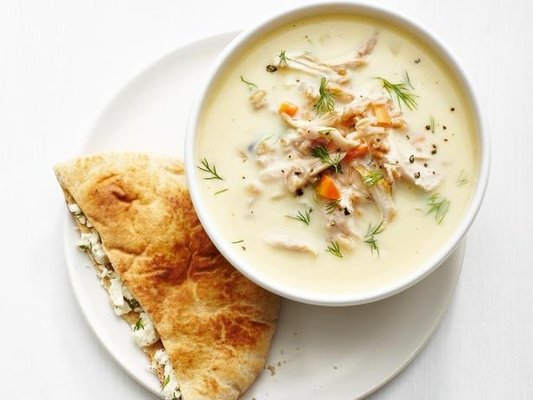curry: (377, 79, 421, 112)
soup: (51, 151, 283, 400)
sushi: (184, 5, 488, 307)
